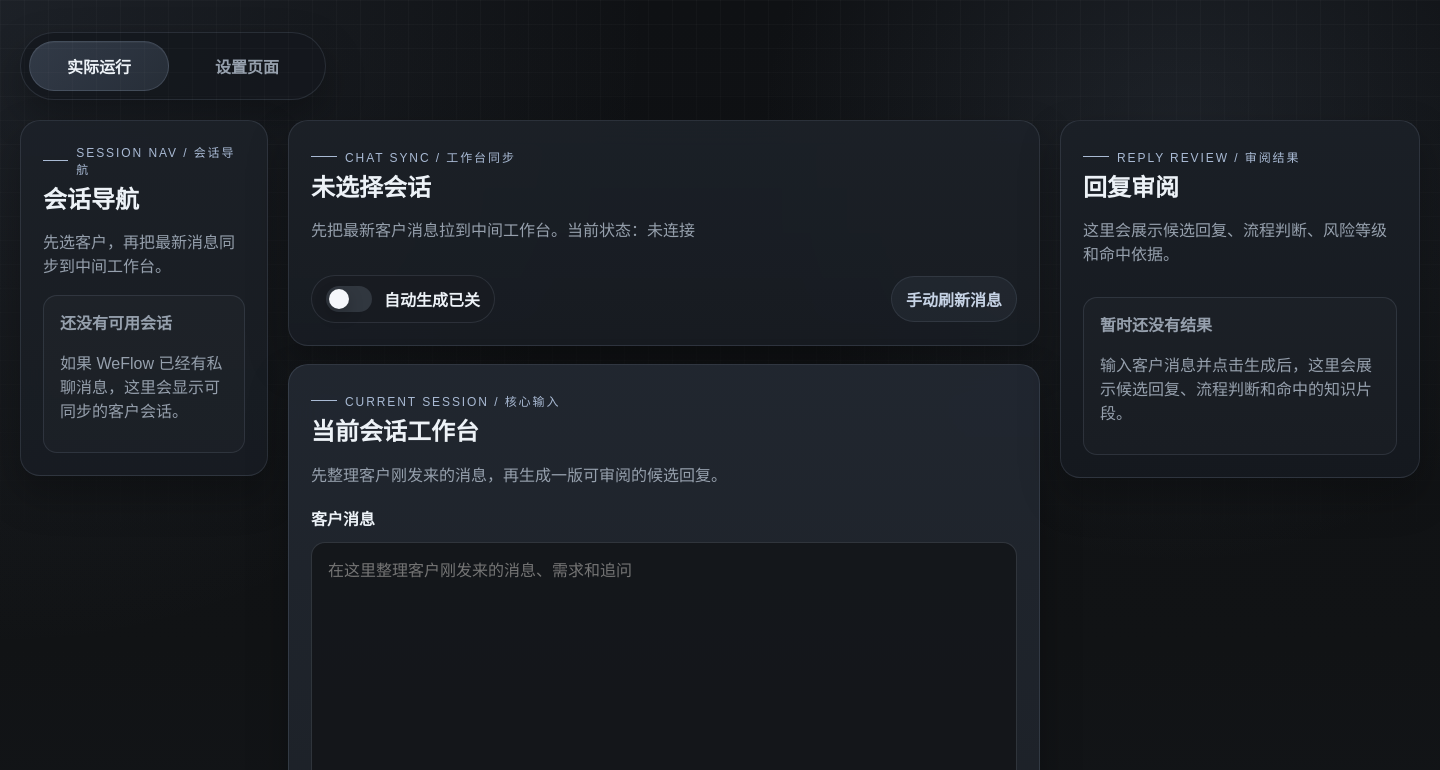
App › 切换到设置页后显示知识文件管理
Click the tab "设置页面" at (247, 66), box [177,41,317,91]
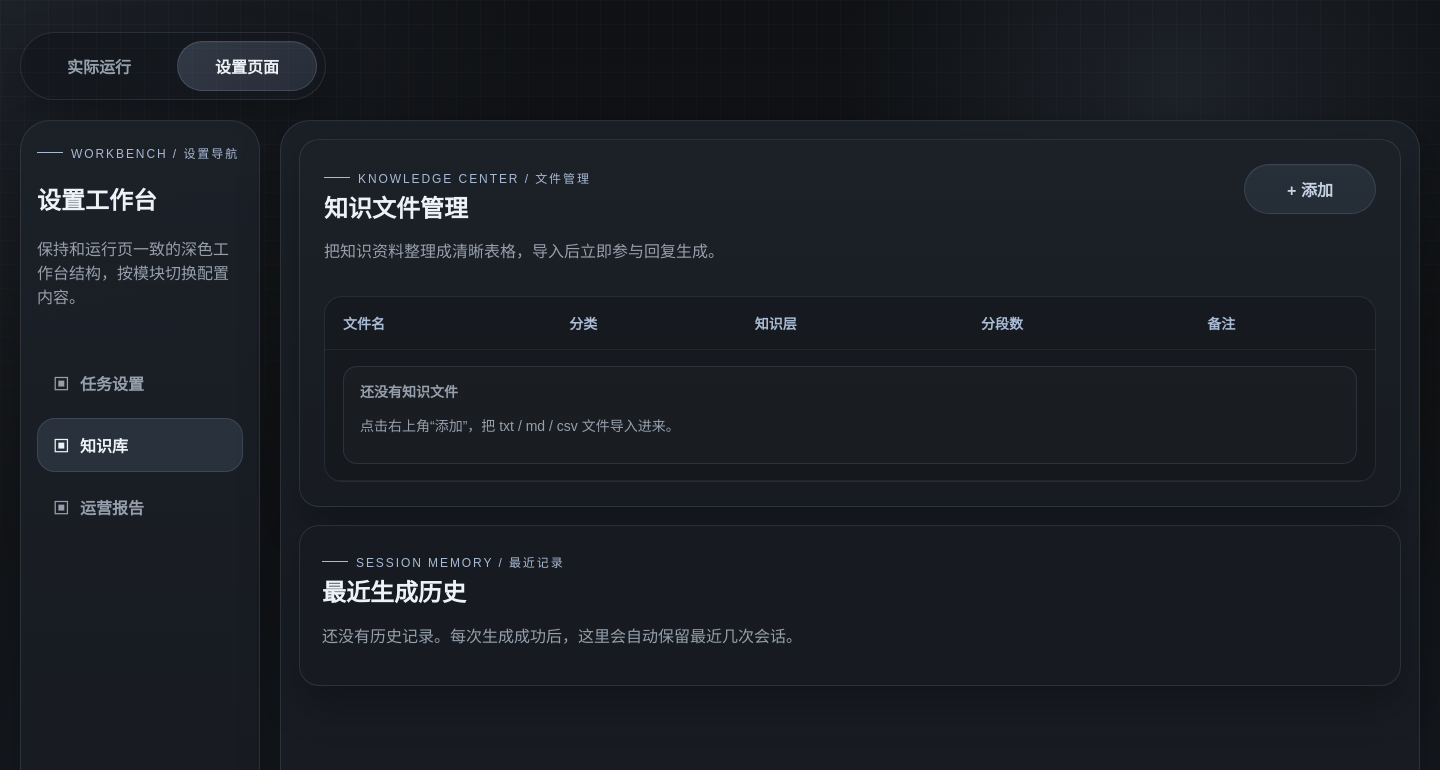
Result: the heading "知识文件管理" is shown at [324,196,468,222]
